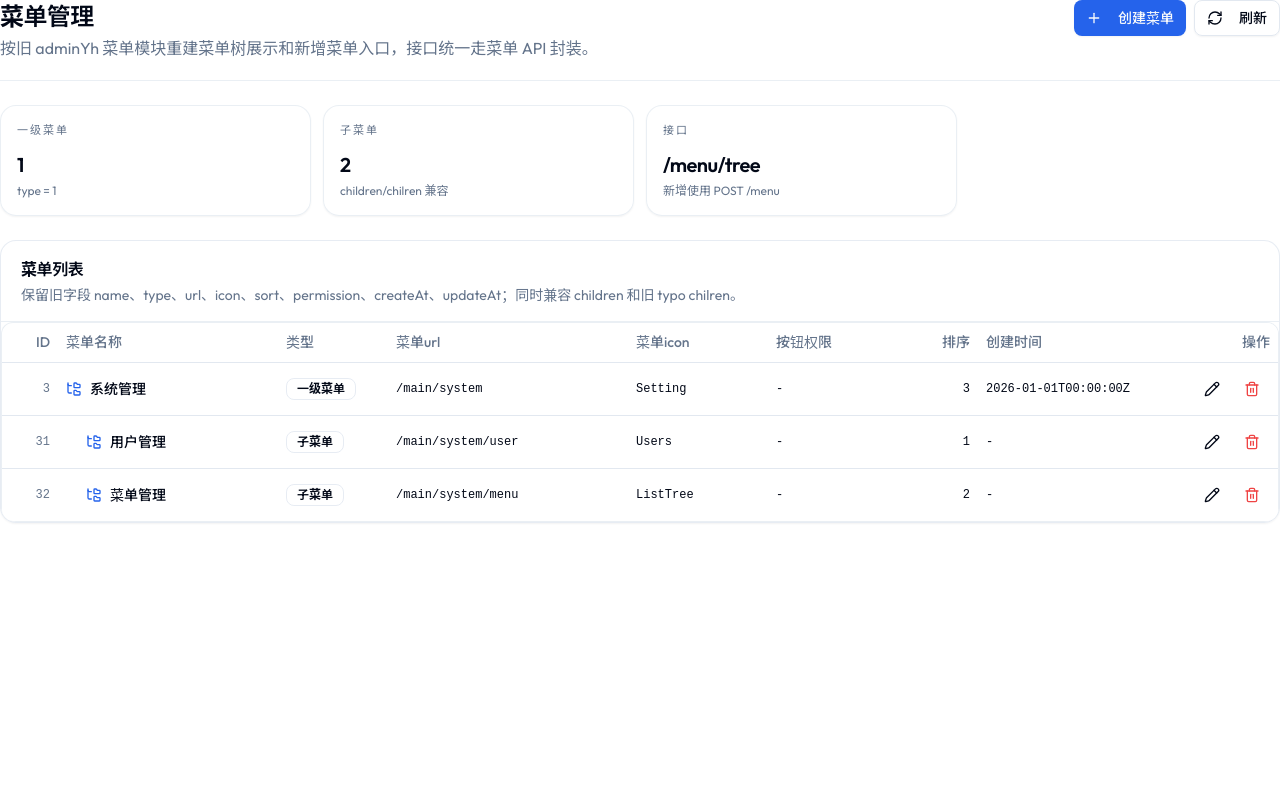
it: MenusList › keeps the optimistic menu row when detail loading fails
This screenshot has width=1280, height=800.
Click the button named "编辑菜单" in the row of "32" at (1212, 495), box x1=1194 y1=477 x2=1230 y2=513
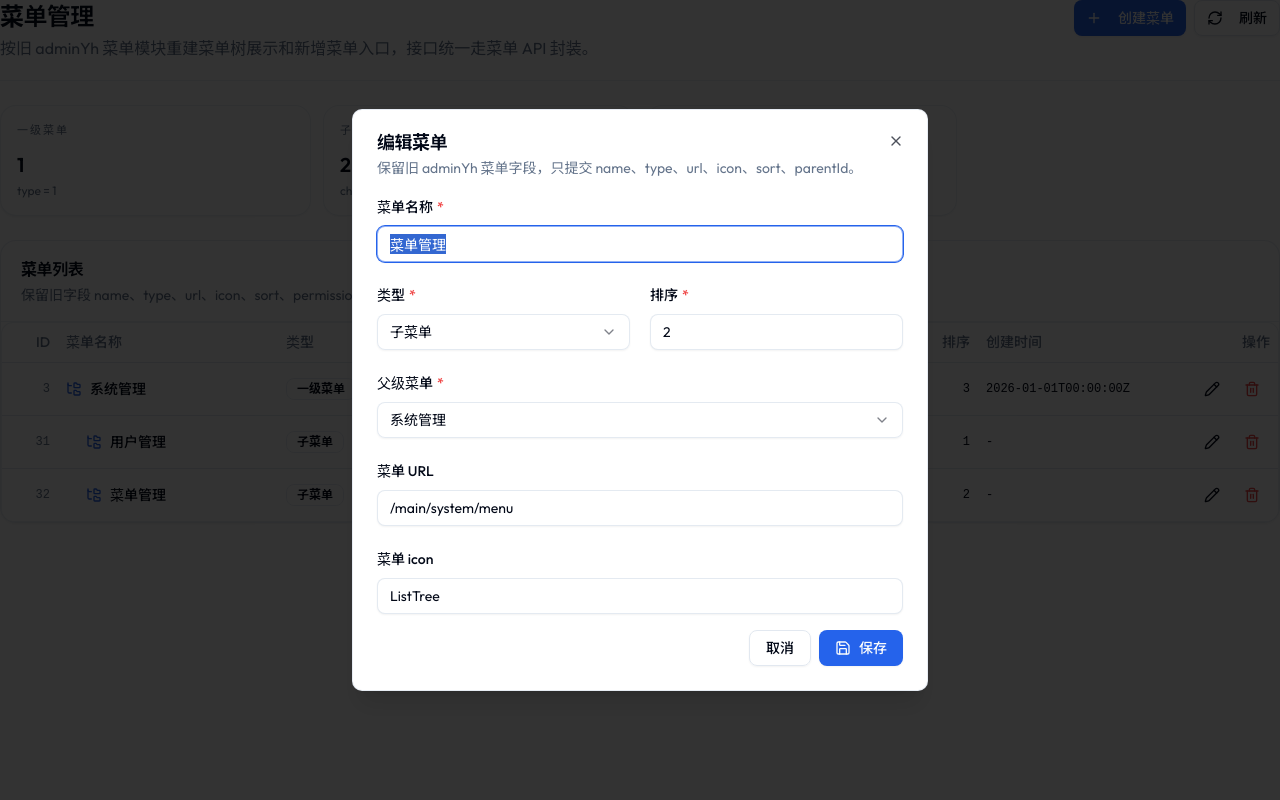
Result: the field labelled "菜单名称" holds "菜单管理" at x1=377 y1=226 x2=903 y2=262
Result: the dialog is shown at x1=352 y1=109 x2=928 y2=691
